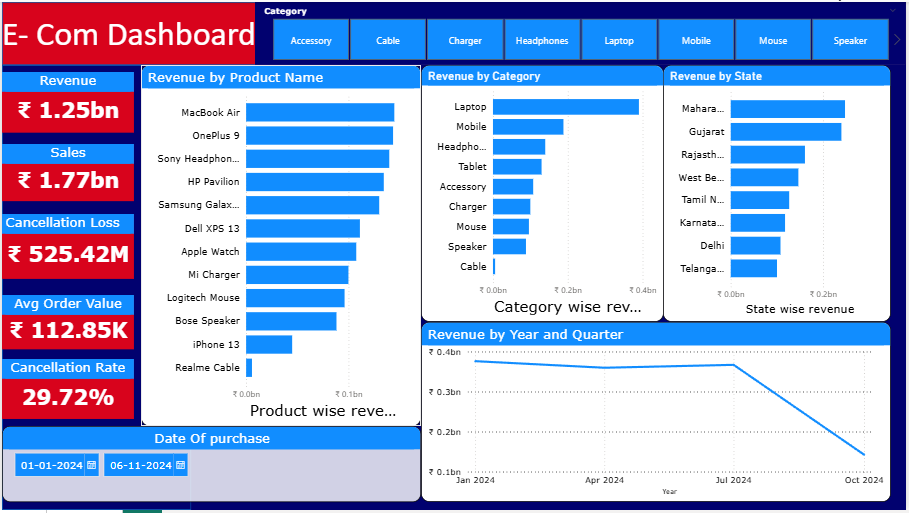

This screenshot's page, from the dashboard's own definition file:
{"tool":"powerbi","page":{"name":"Page 1","canvas":[1280,720],"ordinal":0},"visuals":[{"type":"shape","box":[0,0,1280.2,89.3],"z":0},{"type":"shape","box":[0,88.9,268.3,630.6],"z":1000},{"type":"barChart","fields":{"Category":["Products.Category"],"Y":["Table.Revenue"]},"box":[593.3,89.3,344.2,364.3],"z":2000},{"type":"lineChart","fields":{"Category":["Orders.Date and time of purchase.Variation.Date Hierarchy.Year","Orders.Date and time of purchase.Variation.Date Hierarchy.Quarter","Orders.Date and time of purchase.Variation.Date Hierarchy.Month","Orders.Date and time of purchase.Variation.Date Hierarchy.Day"],"Y":["Table.Revenue"]},"box":[593.9,453.5,666.1,255.1],"z":3000},{"type":"barChart","fields":{"Y":["Table.Revenue"],"Category":["Customers.State"]},"box":[937.4,89.3,322.6,364.3],"z":4000},{"type":"barChart","fields":{"Y":["Table.Revenue"],"Category":["Products.Product Name"]},"box":[197,89.3,396.9,511.7],"z":5000},{"type":"slicer","fields":{"Values":["Products.Category"]},"box":[358.6,0,921.6,89.3],"z":6000},{"type":"card","title":"Revenue","fields":{"Values":["Table.Revenue"]},"box":[0,99.2,187.1,86.5],"z":7000},{"type":"card","title":"Sales","fields":{"Values":["Table.Sales"]},"box":[0,201.3,187.1,80.8],"z":8000},{"type":"card","title":" Cancellation Loss","fields":{"Values":["Table.Rev_Lost_Cancellation"]},"box":[0,300.5,187.1,92.1],"z":9000},{"type":"card","title":"Avg Order Value","fields":{"Values":["Table.Avg_Order_Value"]},"box":[0,415.3,187.1,76.5],"z":10000},{"type":"card","title":"Cancellation Rate","fields":{"Values":["Table.Cancellation rate"]},"box":[0,506,187.1,85],"z":11000},{"type":"slicer","title":"Date Of purchase","fields":{"Values":["Orders.Date and time of purchase"]},"box":[0,600.9,593.9,107.7],"z":12000}]}

Visuals, with their boxes in screenshot pixels (x1, y1, x2, y2), scaled from the page's 1280x720 canvas onto the 909x513 screenshot:
shape: [left=0, top=0, right=908, bottom=64]
shape: [left=0, top=63, right=191, bottom=512]
barChart - Products.Category x Table.Revenue: [left=421, top=64, right=666, bottom=323]
lineChart - Orders.Date and time of purchase.Variation.Date Hierarchy.Year x Orders.Date and time of purchase.Variation.Date Hierarchy.Quarter: [left=422, top=323, right=895, bottom=505]
barChart - Table.Revenue x Customers.State: [left=666, top=64, right=895, bottom=323]
barChart - Table.Revenue x Products.Product Name: [left=140, top=64, right=422, bottom=428]
slicer - Products.Category: [left=255, top=0, right=908, bottom=64]
"Revenue" card: [left=0, top=71, right=133, bottom=132]
"Sales" card: [left=0, top=143, right=133, bottom=201]
" Cancellation Loss" card: [left=0, top=214, right=133, bottom=280]
"Avg Order Value" card: [left=0, top=296, right=133, bottom=350]
"Cancellation Rate" card: [left=0, top=361, right=133, bottom=421]
"Date Of purchase" slicer: [left=0, top=428, right=422, bottom=505]
